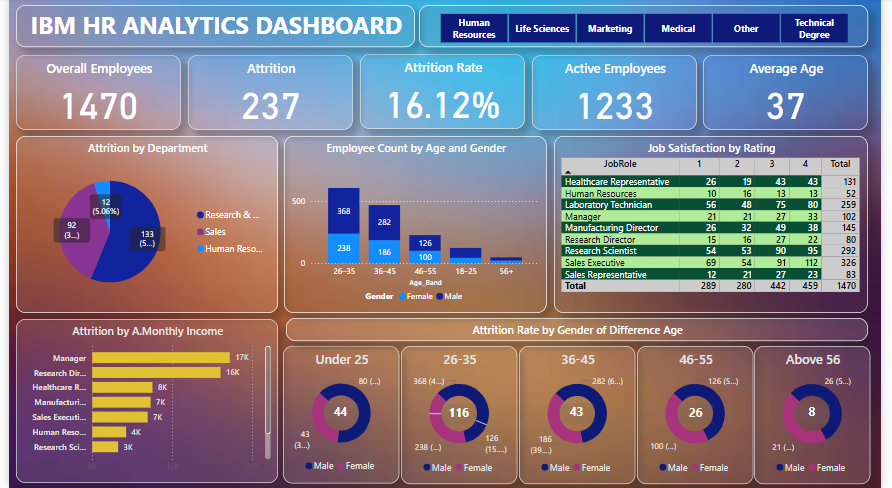

The page's visual inventory and layout, read from the dashboard file:
{"tool":"powerbi","page":{"name":"HR Analytics","canvas":[1280,720],"ordinal":0},"visuals":[{"type":"card","title":"Overall Employees","fields":{"Values":["WA_Fn-UseC_-HR-Employee-Attriti.Total Employees"]},"box":[10.3,83.8,242.4,110.2],"z":0},{"type":"card","title":"Attrition","fields":{"Values":["WA_Fn-UseC_-HR-Employee-Attriti.Total Attrition"]},"box":[263,83.8,242.4,110.2],"z":1000},{"type":"card","title":"Attrition Rate","fields":{"Values":["WA_Fn-UseC_-HR-Employee-Attriti.Attrition Rate"]},"box":[515.8,82.3,242.4,110.2],"z":2000},{"type":"card","title":"Active Employees","fields":{"Values":["WA_Fn-UseC_-HR-Employee-Attriti.Active Employees"]},"box":[768.5,83.8,242.4,110.2],"z":3000},{"type":"card","title":"Average Age","fields":{"Values":["Avg(WA_Fn-UseC_-HR-Employee-Attriti.Age)"]},"box":[1019.8,83.8,242.4,110.2],"z":4000},{"type":"pieChart","title":"Attrition by Department","fields":{"Category":["WA_Fn-UseC_-HR-Employee-Attriti.Department"],"Y":["Sum(WA_Fn-UseC_-HR-Employee-Attriti.Attrition)"]},"box":[10.3,202.8,385,260.1],"z":5000},{"type":"columnChart","title":"Employee Count by Age and Gender","fields":{"Category":["WA_Fn-UseC_-HR-Employee-Attriti.Age Band"],"Y":["Sum(WA_Fn-UseC_-HR-Employee-Attriti.EmployeeCount)"],"Series":["WA_Fn-UseC_-HR-Employee-Attriti.Gender"]},"box":[404.1,202.8,386.4,260.1],"z":6000},{"type":"pivotTable","title":"Job Satisfaction by Rating","fields":{"Rows":["WA_Fn-UseC_-HR-Employee-Attriti.JobRole"],"Columns":["WA_Fn-UseC_-HR-Employee-Attriti.JobSatisfaction"],"Values":["Sum(WA_Fn-UseC_-HR-Employee-Attriti.EmployeeCount)"]},"box":[800.8,202.8,461.4,260.1],"z":7000},{"type":"barChart","title":" Attrition by A.Monthly Income","fields":{"Category":["DimJobRole.JobRole"],"Y":["DimBusinessTravel.AverageMonthlyIncome"]},"box":[10.3,471.7,385,241],"z":8000},{"type":"donutChart","title":"Under 25","fields":{"Category":["WA_Fn-UseC_-HR-Employee-Attriti.Gender"],"Y":["CountNonNull(WA_Fn-UseC_-HR-Employee-Attriti.Attrition)"],"Series":["WA_Fn-UseC_-HR-Employee-Attriti.Age_Band"]},"box":[403.1,510.7,171.3,201.6],"z":9000},{"type":"textbox","title":"Attrition Rate by Gender  of Difference Age ","box":[407,470.2,855.2,33.8],"z":10000},{"type":"donutChart","title":"26-35","fields":{"Category":["WA_Fn-UseC_-HR-Employee-Attriti.Gender"],"Y":["CountNonNull(WA_Fn-UseC_-HR-Employee-Attriti.Attrition)"],"Series":["WA_Fn-UseC_-HR-Employee-Attriti.Age_Band"]},"box":[576.2,510.7,171.3,203.3],"z":11000},{"type":"donutChart","title":"36-45","fields":{"Category":["WA_Fn-UseC_-HR-Employee-Attriti.Gender"],"Y":["CountNonNull(WA_Fn-UseC_-HR-Employee-Attriti.Attrition)"],"Series":["WA_Fn-UseC_-HR-Employee-Attriti.Age_Band"]},"box":[749.2,510.7,171.3,203.3],"z":12000},{"type":"donutChart","title":"46-55","fields":{"Category":["WA_Fn-UseC_-HR-Employee-Attriti.Gender"],"Y":["CountNonNull(WA_Fn-UseC_-HR-Employee-Attriti.Attrition)"],"Series":["WA_Fn-UseC_-HR-Employee-Attriti.Age_Band"]},"box":[922.2,510.7,171.3,203.3],"z":13000},{"type":"donutChart","title":"Above 56","fields":{"Category":["WA_Fn-UseC_-HR-Employee-Attriti.Gender"],"Y":["CountNonNull(WA_Fn-UseC_-HR-Employee-Attriti.Attrition)"],"Series":["WA_Fn-UseC_-HR-Employee-Attriti.Age_Band"]},"box":[1095.2,510.7,171.3,203.3],"z":14000},{"type":"card","fields":{"Values":["Sum(WA_Fn-UseC_-HR-Employee-Attriti.Attrition)"]},"box":[461.9,594.6,52.1,30.2],"z":15000},{"type":"card","fields":{"Values":["Sum(WA_Fn-UseC_-HR-Employee-Attriti.Attrition)"]},"box":[635,596.3,52.1,30.2],"z":16000},{"type":"card","fields":{"Values":["Sum(WA_Fn-UseC_-HR-Employee-Attriti.Attrition)"]},"box":[808,594.6,52.1,30.2],"z":17000},{"type":"card","fields":{"Values":["Sum(WA_Fn-UseC_-HR-Employee-Attriti.Attrition)"]},"box":[982.7,596.3,52.1,30.2],"z":18000},{"type":"card","fields":{"Values":["Sum(WA_Fn-UseC_-HR-Employee-Attriti.Attrition)"]},"box":[1154,594.6,52.1,30.2],"z":19000},{"type":"textbox","title":"IBM HR ANALYTICS DASHBOARD","box":[10.3,10.3,586.3,61.7],"z":20000},{"type":"slicer","fields":{"Values":["WA_Fn-UseC_-HR-Employee-Attriti.EducationField"]},"box":[602.4,10.3,659.8,61.7],"z":21000}]}

Visuals, with their boxes in screenshot pixels (x1, y1, x2, y2), scaled from the page's 1280x720 canvas onto the 892x488 screenshot:
"Overall Employees" card: region(7, 57, 176, 131)
"Attrition" card: region(183, 57, 352, 131)
"Attrition Rate" card: region(359, 56, 528, 130)
"Active Employees" card: region(536, 57, 704, 131)
"Average Age" card: region(711, 57, 880, 131)
"Attrition by Department" pieChart: region(7, 137, 275, 314)
"Employee Count by Age and Gender" columnChart: region(282, 137, 551, 314)
"Job Satisfaction by Rating" pivotTable: region(558, 137, 880, 314)
" Attrition by A.Monthly Income" barChart: region(7, 320, 275, 483)
"Under 25" donutChart: region(281, 346, 400, 483)
"Attrition Rate by Gender  of Difference Age " textbox: region(284, 319, 880, 342)
"26-35" donutChart: region(402, 346, 521, 484)
"36-45" donutChart: region(522, 346, 641, 484)
"46-55" donutChart: region(643, 346, 762, 484)
"Above 56" donutChart: region(763, 346, 883, 484)
card - Sum(WA_Fn-UseC_-HR-Employee-Attriti.Attrition): region(322, 403, 358, 423)
card - Sum(WA_Fn-UseC_-HR-Employee-Attriti.Attrition): region(443, 404, 479, 425)
card - Sum(WA_Fn-UseC_-HR-Employee-Attriti.Attrition): region(563, 403, 599, 423)
card - Sum(WA_Fn-UseC_-HR-Employee-Attriti.Attrition): region(685, 404, 721, 425)
card - Sum(WA_Fn-UseC_-HR-Employee-Attriti.Attrition): region(804, 403, 841, 423)
"IBM HR ANALYTICS DASHBOARD" textbox: region(7, 7, 416, 49)
slicer - WA_Fn-UseC_-HR-Employee-Attriti.EducationField: region(420, 7, 880, 49)
